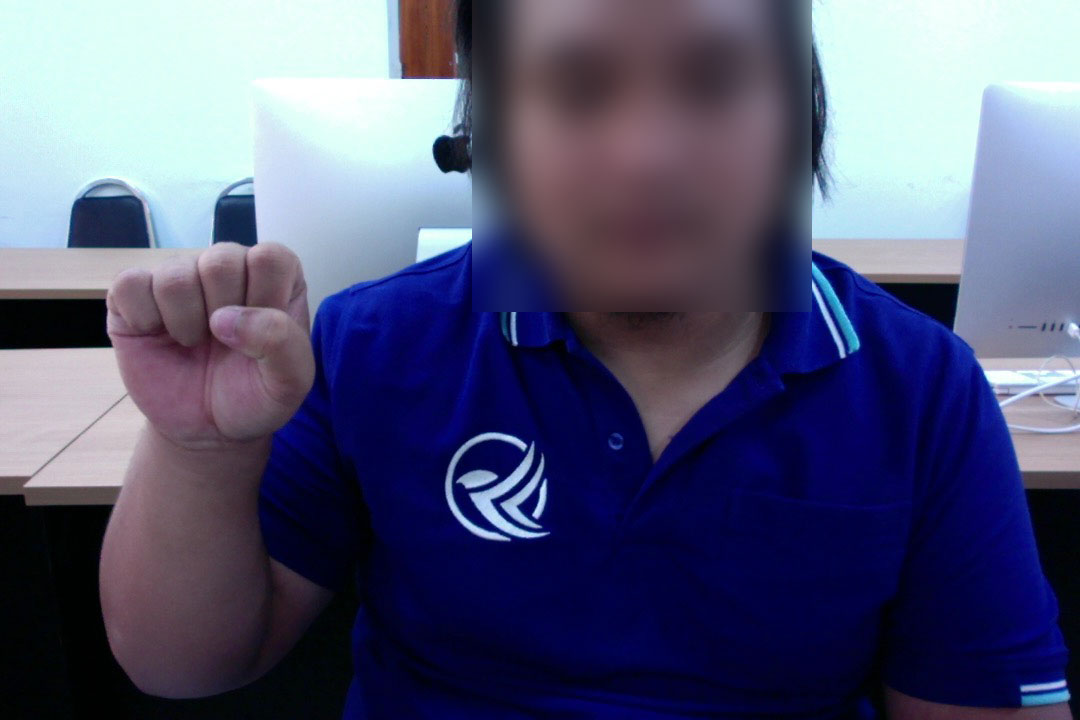sor: (98, 235, 325, 453)
